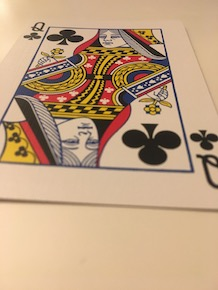QueenOfClubs: (1, 10, 218, 219)
